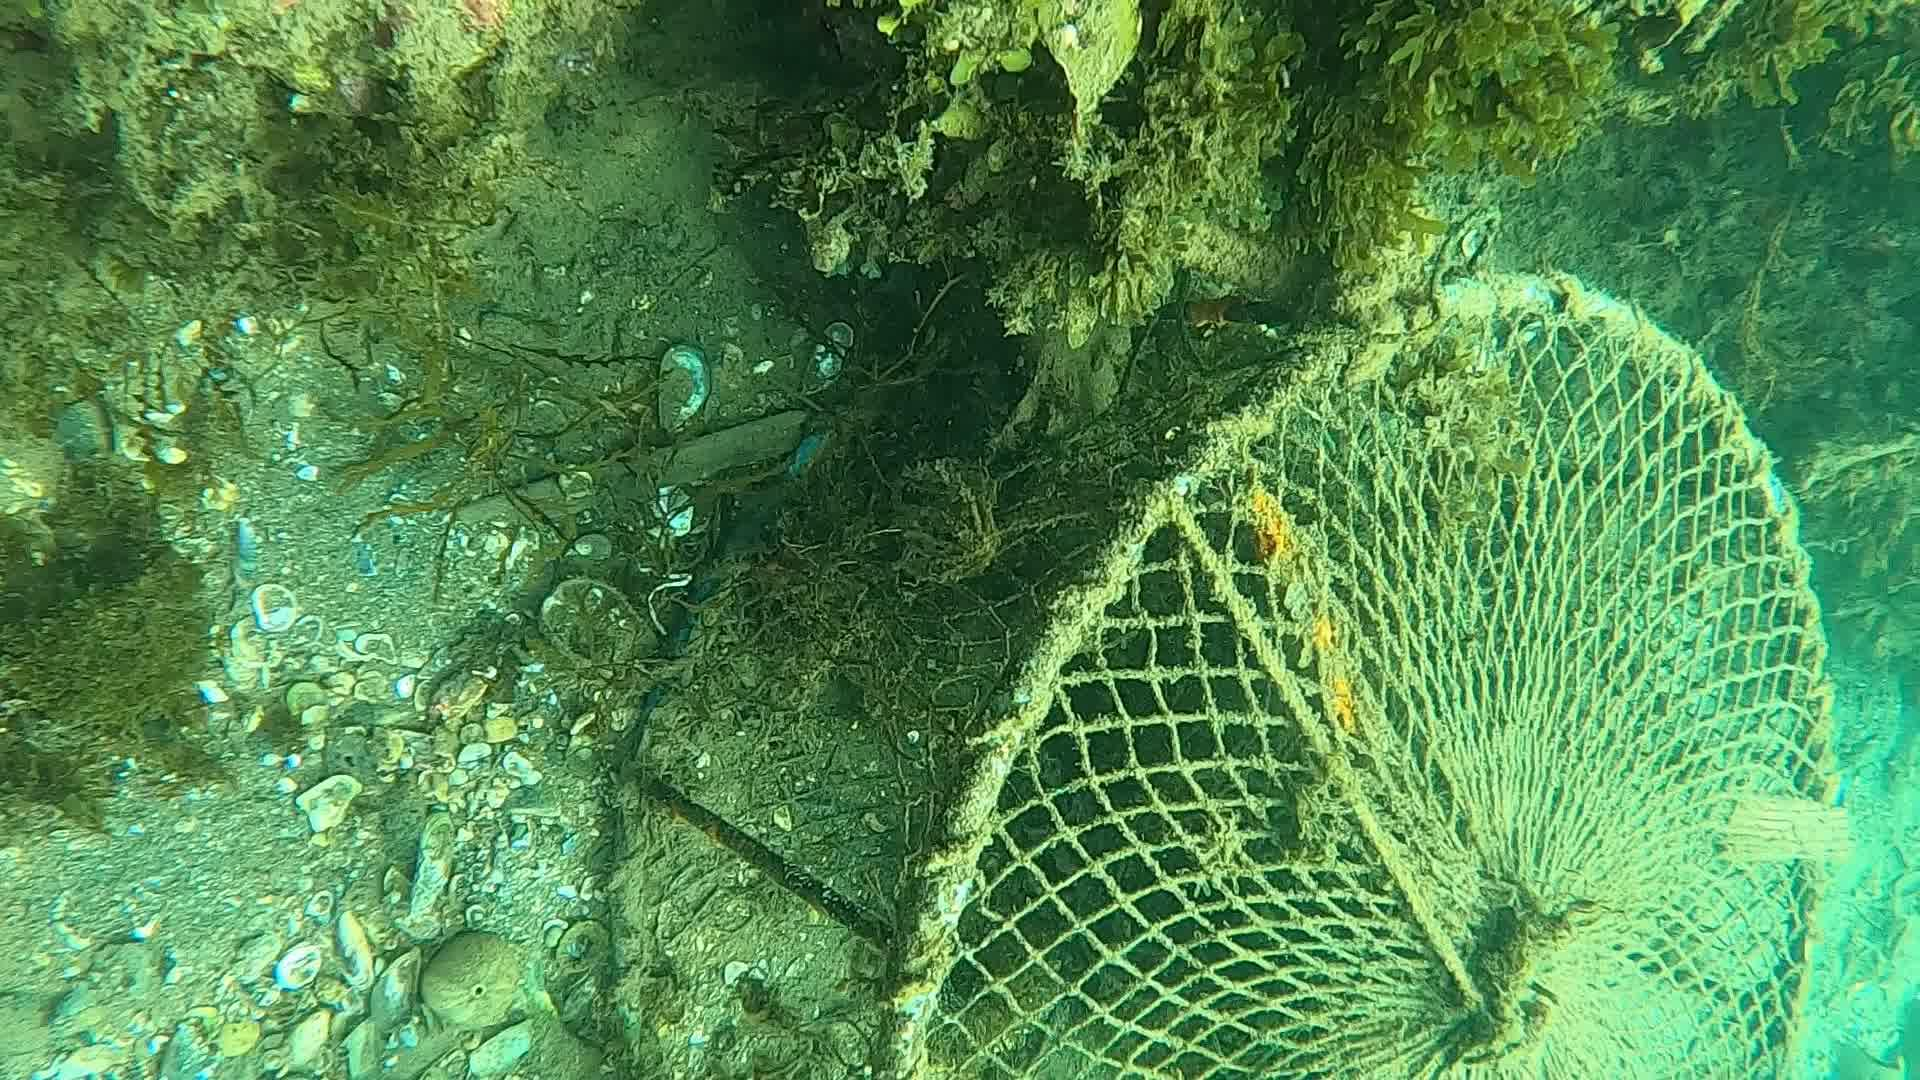circular fish trap: (605, 270, 1851, 1080)
